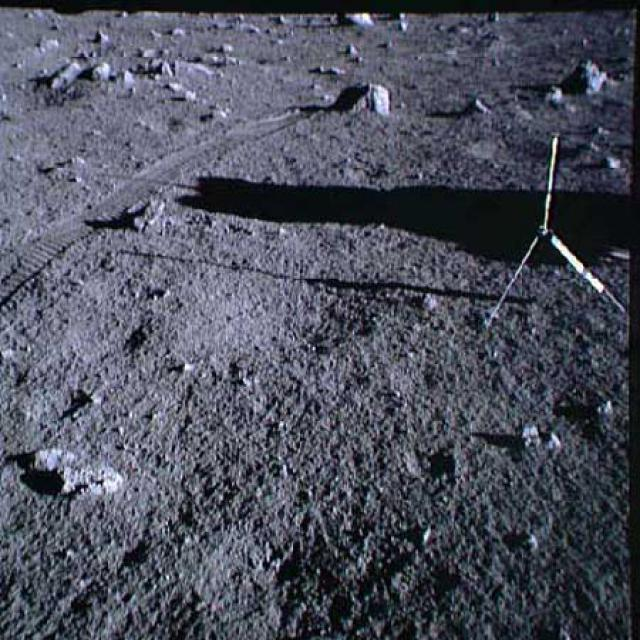artifact: (486, 132, 634, 334)
rock: (340, 76, 397, 118), (574, 52, 620, 98), (44, 59, 84, 90), (335, 12, 376, 32), (175, 58, 211, 80), (538, 81, 566, 108), (142, 57, 174, 80), (164, 82, 196, 103), (91, 58, 114, 82), (120, 67, 136, 89)
